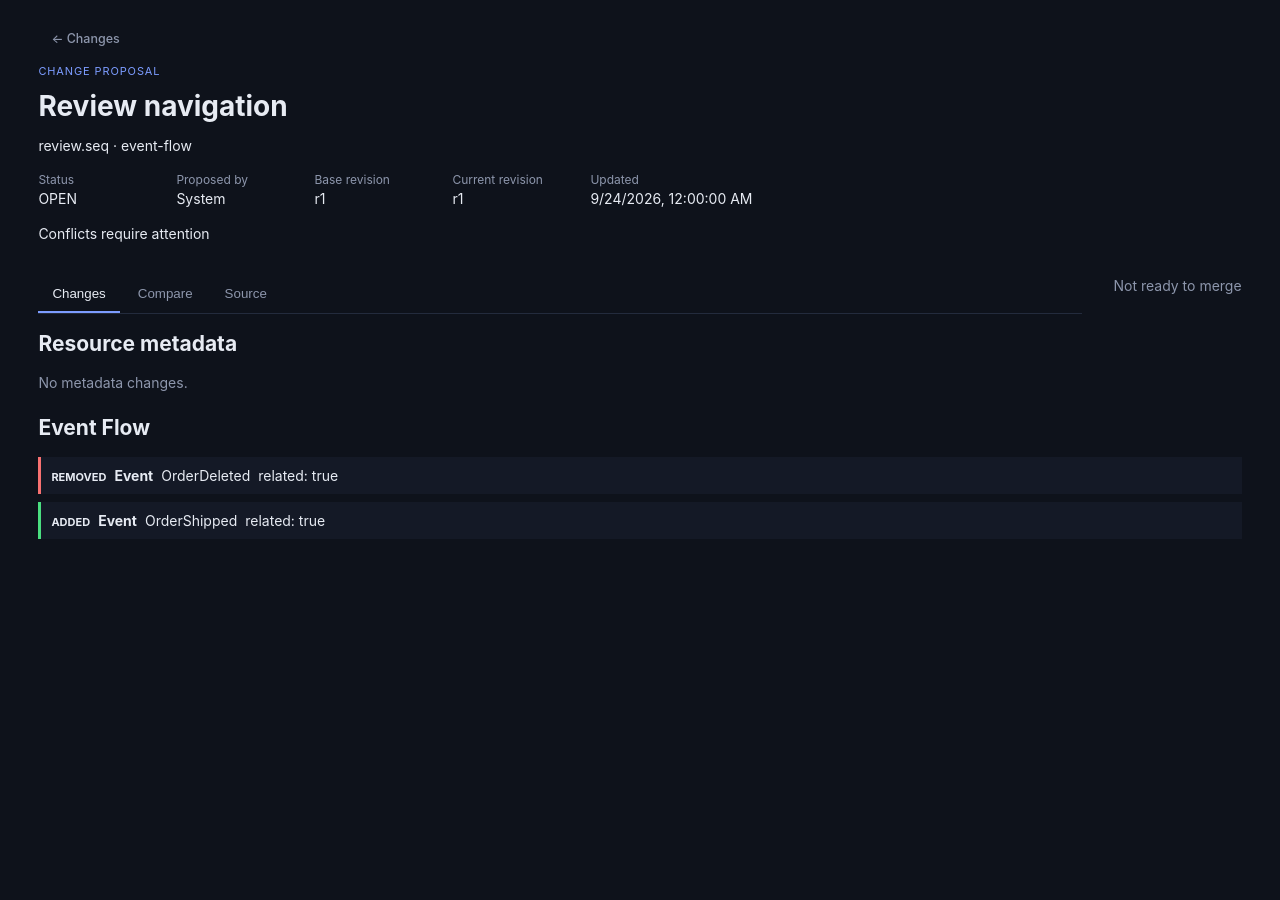
proposal review change navigation › event flow › disables previous at the start and next at the end
Click the button "Compare": {"x": 165, "y": 294} [124, 276, 207, 313]
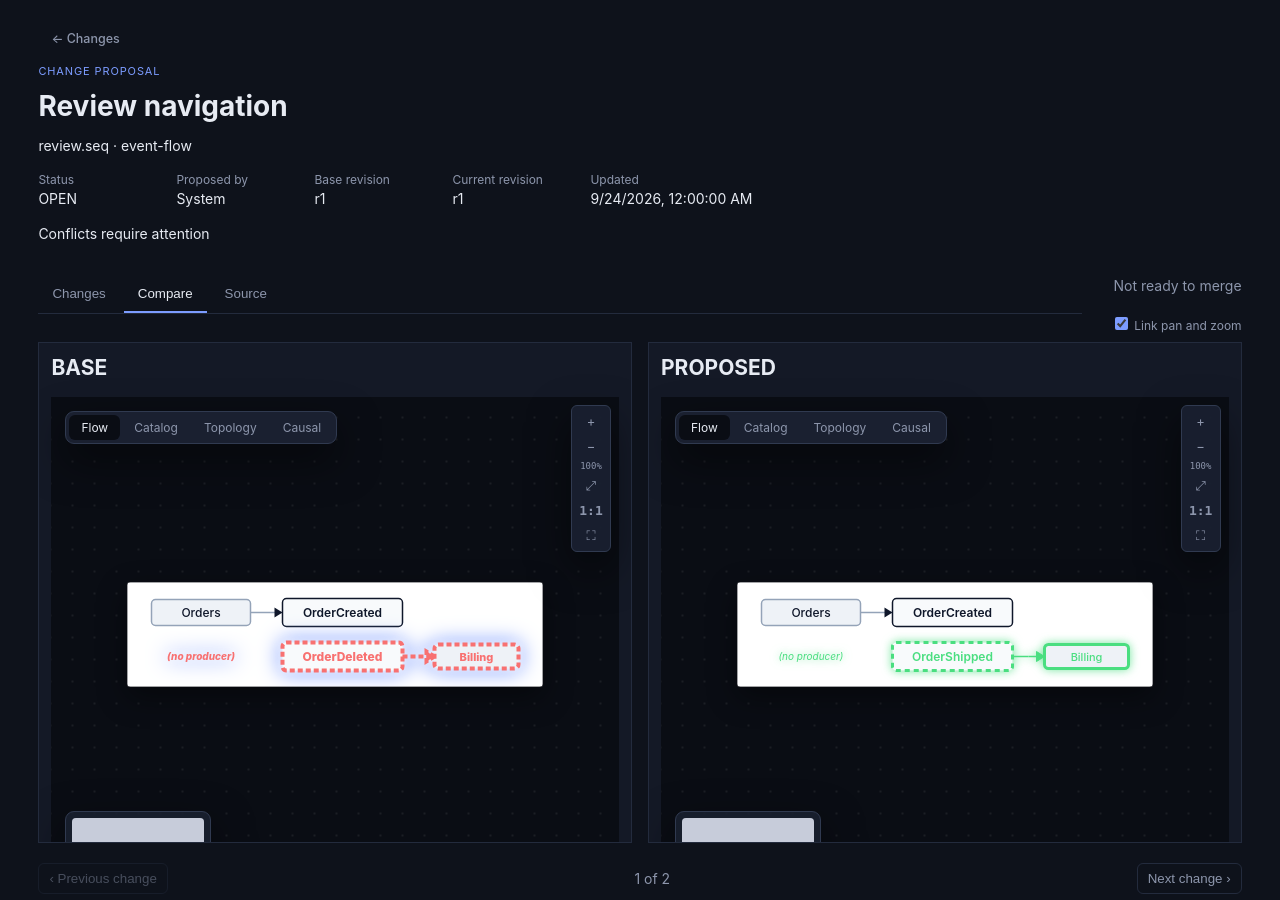
Expected: the button with test id "change-previous" is disabled, [38, 863, 168, 894]
Expected: the button with test id "change-next" is enabled
Click the button with test id "change-next": {"x": 1189, "y": 878} [1137, 863, 1242, 894]
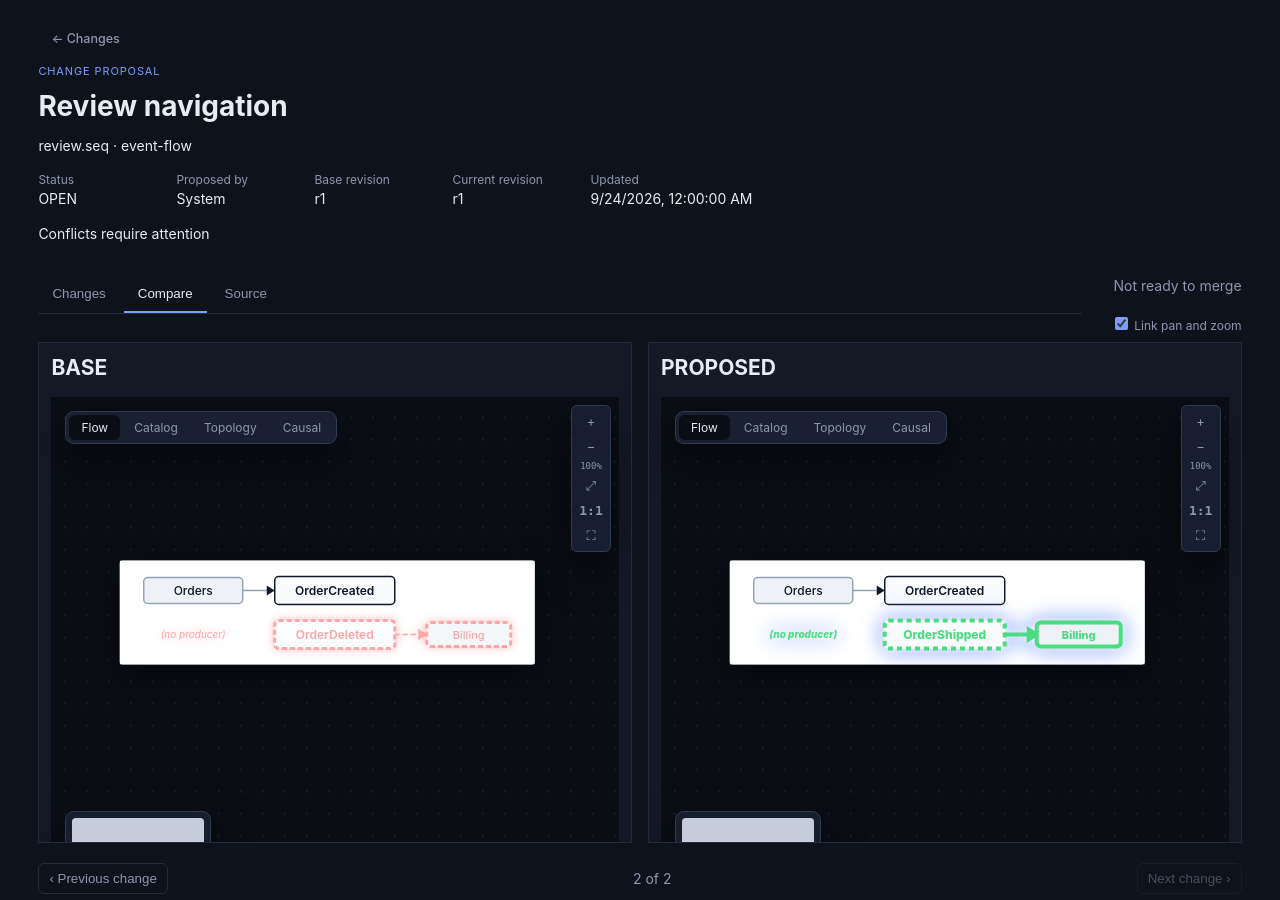
Expected: the button with test id "change-next" is disabled, [1137, 863, 1242, 894]
Expected: the button with test id "change-previous" is enabled, [38, 863, 168, 894]
